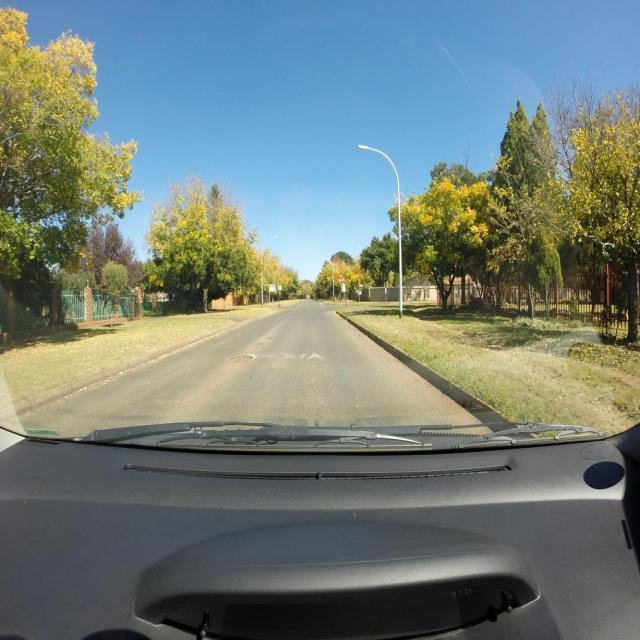pothole: (226, 355, 253, 363), (270, 367, 283, 373), (258, 342, 266, 345), (267, 338, 272, 341)
